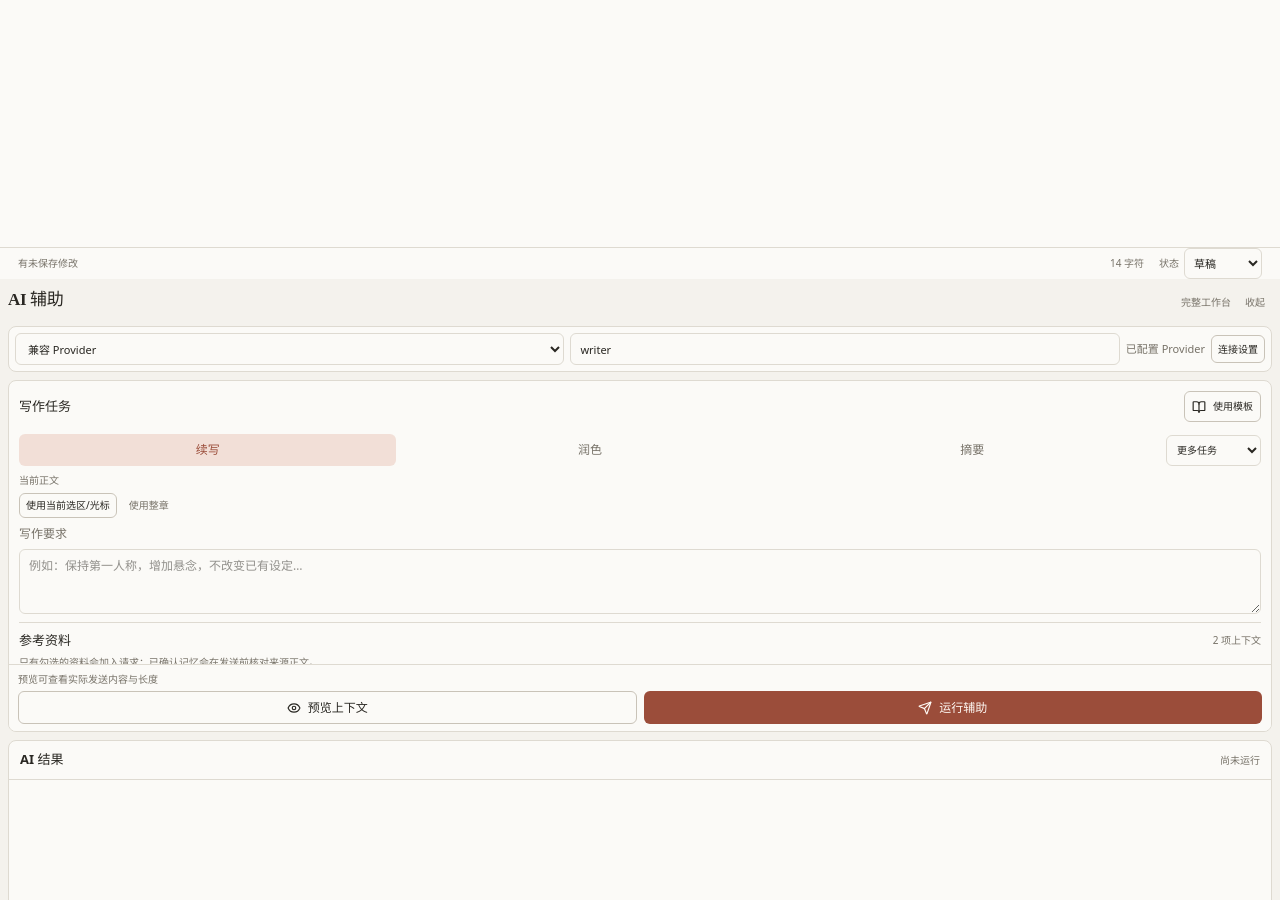
Scenario: does not offer a whole-chapter target for selection-only task rewrite
The width and height of the screenshot is (1280, 900).
(page scrolled)
Select "改写" in the dropdown named "更多任务" at x=1214, y=450, box [1166,434,1261,466]
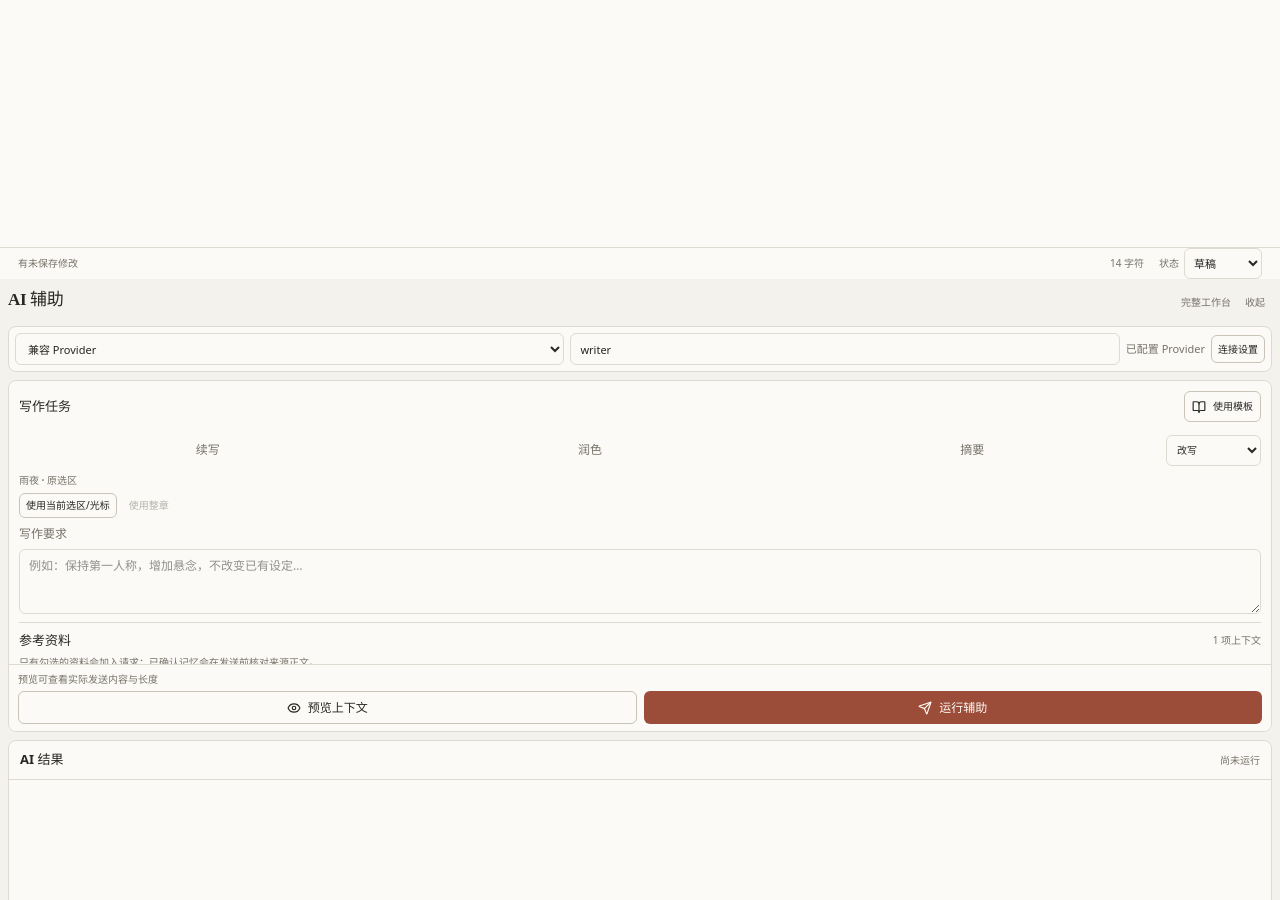
Expected: the button "使用整章" is disabled, [122,493,176,518]
Click the button "摘要".
click(972, 450)  # box [784,434,1161,466]
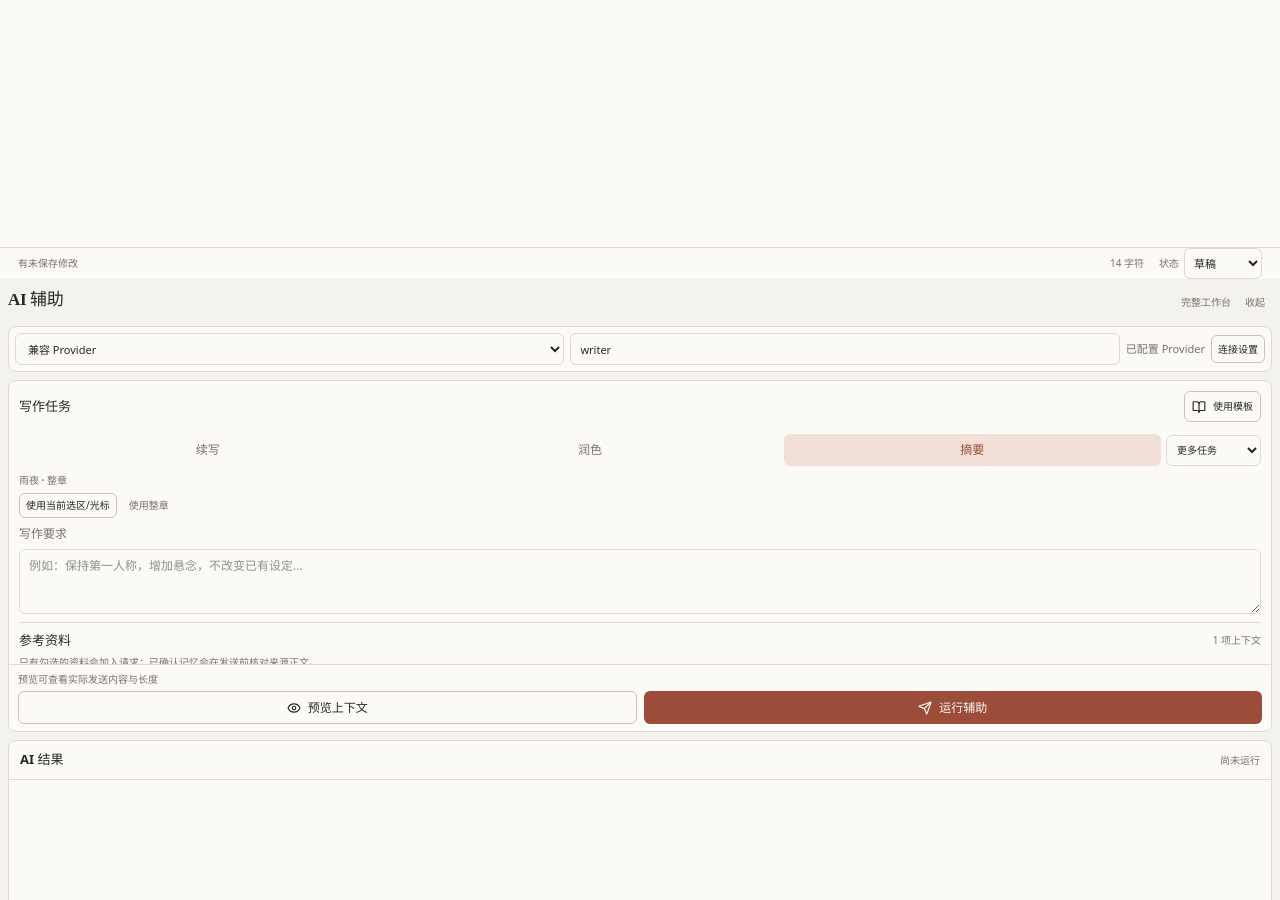
Expected: the button "使用整章" is enabled, [122,493,176,518]
